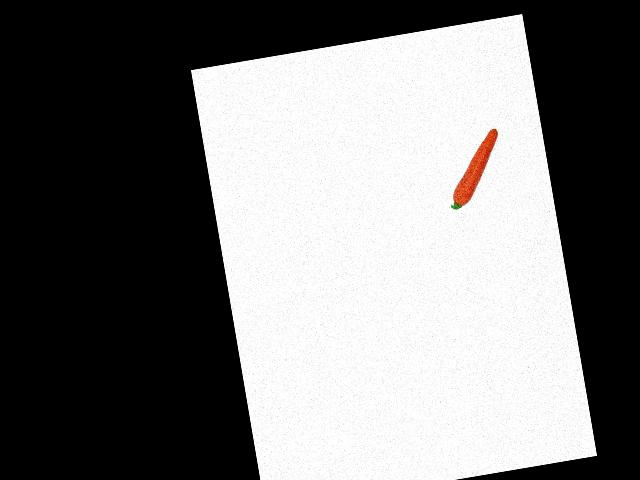carrot: (440, 126, 512, 207)
